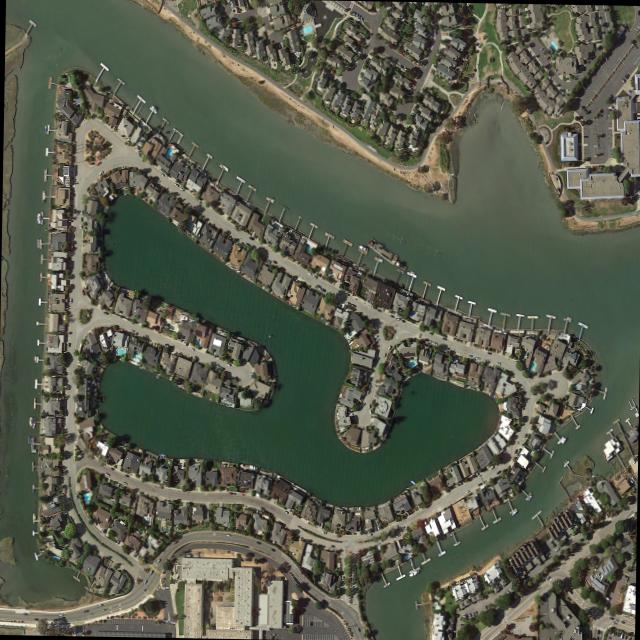large-vehicle: (604, 596, 610, 601), (619, 633, 623, 639)
ship: (367, 237, 398, 266), (395, 260, 407, 272), (408, 569, 419, 577), (559, 436, 567, 446), (358, 244, 368, 252), (510, 509, 518, 517), (28, 416, 33, 428), (150, 104, 157, 112), (36, 213, 41, 224), (527, 494, 532, 501), (28, 436, 32, 444), (36, 238, 39, 248), (563, 459, 568, 465), (269, 196, 275, 201), (44, 124, 47, 133), (410, 270, 415, 275), (33, 355, 37, 361), (566, 316, 571, 320), (30, 449, 36, 452)
small-vehicle: (555, 188, 560, 194), (399, 318, 405, 323), (614, 504, 619, 510), (315, 285, 321, 290), (95, 161, 101, 166), (80, 289, 85, 295), (539, 46, 544, 51), (546, 76, 551, 81), (581, 85, 586, 90), (496, 470, 501, 475), (586, 537, 591, 542), (545, 576, 550, 581), (554, 547, 559, 552), (552, 543, 557, 548), (550, 541, 555, 546), (544, 552, 549, 557), (104, 472, 109, 477), (172, 540, 177, 545), (395, 533, 400, 538), (179, 187, 184, 192), (98, 170, 103, 175), (190, 347, 195, 352), (225, 362, 230, 367), (368, 409, 372, 415), (97, 603, 103, 607), (370, 306, 376, 310), (356, 627, 360, 633), (467, 612, 471, 618), (629, 478, 633, 484), (611, 630, 615, 636), (143, 579, 147, 585), (149, 569, 153, 575), (135, 144, 139, 150), (265, 259, 269, 265), (267, 260, 271, 266), (609, 94, 613, 99), (549, 393, 554, 397), (523, 433, 527, 438), (514, 449, 518, 454), (621, 79, 626, 83), (561, 91, 565, 96), (626, 72, 630, 77), (490, 466, 494, 471), (475, 471, 479, 476), (361, 402, 365, 407), (373, 394, 377, 399), (374, 384, 379, 388), (429, 331, 434, 335), (346, 301, 351, 305), (369, 300, 373, 305), (389, 314, 394, 318), (428, 340, 433, 344), (387, 345, 391, 350), (605, 513, 609, 518), (614, 512, 619, 516), (589, 607, 593, 612), (613, 618, 618, 622), (612, 621, 617, 625), (344, 292, 349, 296), (321, 288, 326, 292), (122, 481, 127, 485), (124, 474, 129, 478), (109, 467, 114, 471), (256, 540, 261, 544), (137, 554, 141, 559), (478, 482, 483, 486), (465, 489, 469, 494), (270, 547, 275, 551), (336, 534, 341, 538), (330, 544, 335, 548), (283, 510, 288, 514), (320, 274, 324, 279), (136, 153, 141, 157), (160, 172, 164, 177), (226, 230, 230, 235), (86, 187, 90, 192), (249, 236, 254, 240), (245, 243, 250, 247), (272, 260, 277, 264), (312, 275, 317, 279), (103, 311, 108, 315), (130, 329, 135, 333), (164, 343, 169, 347), (220, 366, 225, 370), (67, 225, 73, 228), (529, 418, 532, 424), (67, 219, 73, 222), (453, 358, 456, 364), (366, 389, 369, 395), (375, 378, 378, 384), (381, 306, 384, 312), (351, 290, 354, 296), (631, 476, 634, 482), (235, 7, 238, 13), (474, 610, 477, 616), (63, 489, 66, 495), (357, 50, 361, 54), (400, 52, 404, 56), (624, 75, 628, 79), (546, 56, 550, 60), (351, 304, 355, 308), (377, 308, 381, 312), (373, 335, 377, 339), (374, 338, 378, 342), (411, 113, 415, 117), (549, 538, 553, 542), (550, 539, 554, 543), (156, 559, 160, 563), (174, 183, 178, 187), (307, 272, 311, 276), (144, 334, 148, 338), (487, 352, 492, 355), (607, 106, 612, 109), (583, 135, 588, 138), (495, 362, 500, 365), (483, 359, 488, 362), (475, 357, 480, 360), (360, 17, 363, 22), (399, 65, 404, 68), (445, 347, 450, 350), (368, 384, 371, 389), (348, 413, 353, 416), (83, 610, 88, 613), (442, 337, 447, 340), (432, 342, 437, 345), (392, 309, 395, 314), (375, 325, 378, 330), (383, 352, 386, 357), (616, 631, 619, 636), (618, 632, 621, 637), (614, 631, 617, 636), (472, 612, 475, 617), (484, 605, 487, 610), (74, 494, 77, 499), (101, 528, 104, 533), (375, 542, 380, 545), (375, 520, 378, 525), (374, 526, 377, 531), (321, 531, 326, 534), (259, 507, 264, 510), (116, 539, 119, 544), (143, 587, 146, 592), (69, 298, 72, 303), (234, 376, 237, 381), (193, 356, 198, 359), (215, 365, 220, 368), (608, 134, 612, 137), (468, 354, 472, 357), (278, 44, 281, 48), (353, 11, 355, 17), (356, 13, 358, 19), (604, 56, 607, 60), (482, 480, 486, 483), (102, 608, 106, 611), (366, 299, 369, 303), (596, 636, 599, 640), (607, 636, 611, 639), (618, 591, 622, 594), (623, 575, 627, 578), (610, 616, 613, 620), (231, 492, 235, 495), (159, 486, 163, 489), (103, 529, 106, 533), (240, 493, 244, 496), (373, 522, 376, 526), (367, 533, 371, 536), (317, 523, 320, 527), (80, 210, 83, 214), (251, 369, 255, 372), (250, 373, 252, 379), (607, 114, 612, 116), (637, 10, 639, 15), (434, 30, 436, 35), (358, 15, 360, 20), (22, 613, 27, 615), (309, 621, 311, 626), (597, 630, 599, 635), (256, 509, 258, 514), (225, 534, 230, 536), (377, 525, 379, 530), (342, 576, 344, 581), (80, 225, 82, 230), (80, 217, 82, 222), (73, 412, 75, 417), (608, 109, 612, 111), (593, 145, 597, 147), (368, 404, 370, 408), (59, 614, 63, 616), (34, 618, 38, 620), (624, 635, 626, 639), (629, 636, 631, 640), (621, 621, 625, 623), (227, 492, 231, 494), (67, 343, 69, 347), (65, 307, 69, 309), (65, 305, 69, 307)
